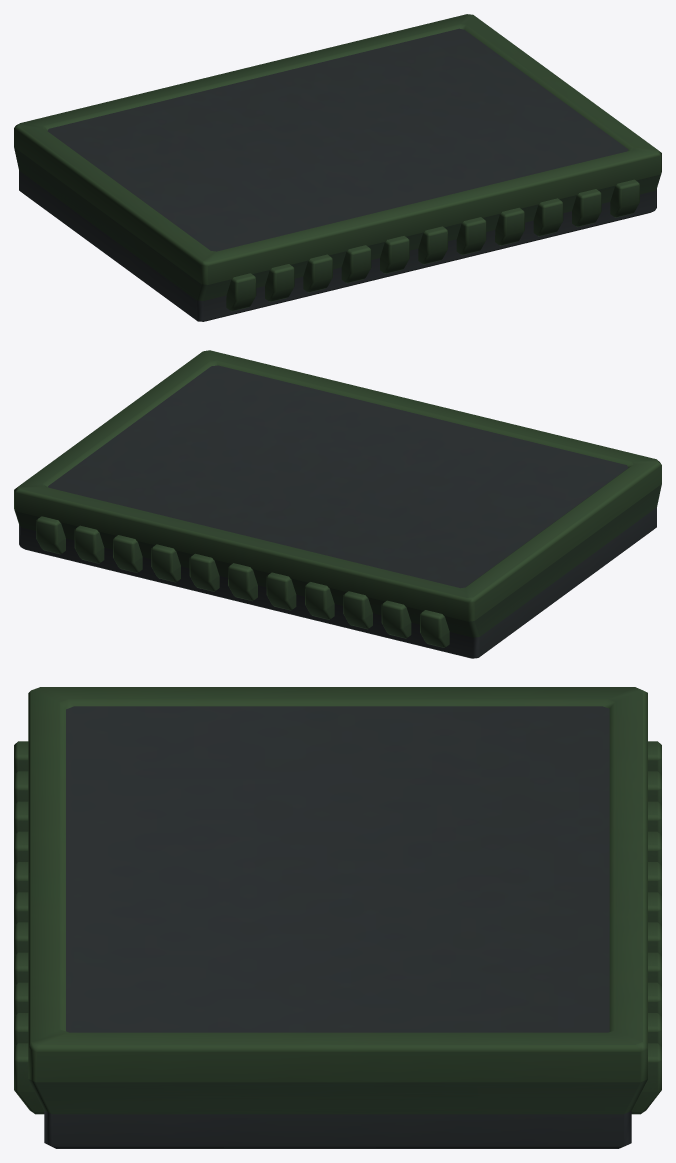
File: appartment_type1_roof_type2_x6_flat_black.fbx
The picture shows the model from 3 angles, top to bottom: view 1: azimuth 30°, elevation 25°; view 2: azimuth 150°, elevation 25°; view 3: azimuth 270°, elevation 25°; orthographic projection. The views are drawn at different scales.
Parts seen in each view (by area): view 1: appartment_type1_roof_type2_x6_flat_black; view 2: appartment_type1_roof_type2_x6_flat_black; view 3: appartment_type1_roof_type2_x6_flat_black.
Boxes of the visible parts, x1,y1,x2,y2 form: appartment_type1_roof_type2_x6_flat_black: [14, 14, 661, 321]; appartment_type1_roof_type2_x6_flat_black: [14, 350, 661, 658]; appartment_type1_roof_type2_x6_flat_black: [14, 687, 661, 1148].
Size of the model in its own units: 1200 by 160 by 907.
